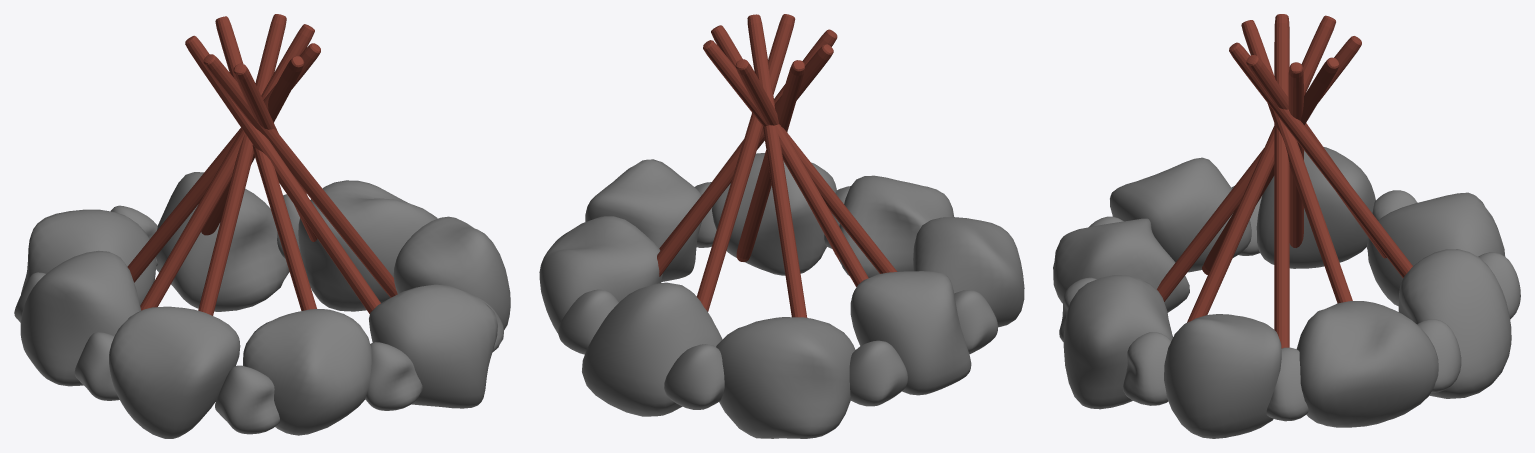
Rendered from fogueira.fbx.
3 renders of one model, left to right at view 1: azimuth 30°, elevation 25°; view 2: azimuth 150°, elevation 25°; view 3: azimuth 270°, elevation 25°, orthographic. The views are drawn at different scales.
Parts seen in each view (by area): view 1: Cube.031; view 2: Cube.031; view 3: Cube.031.
Boxes of the visible parts, left/top/right/bottom form: Cube.031: left=14, top=14, right=510, bottom=438; Cube.031: left=539, top=14, right=1024, bottom=438; Cube.031: left=1053, top=14, right=1520, bottom=438.
Size of the model in its own units: 251 by 191 by 247.
